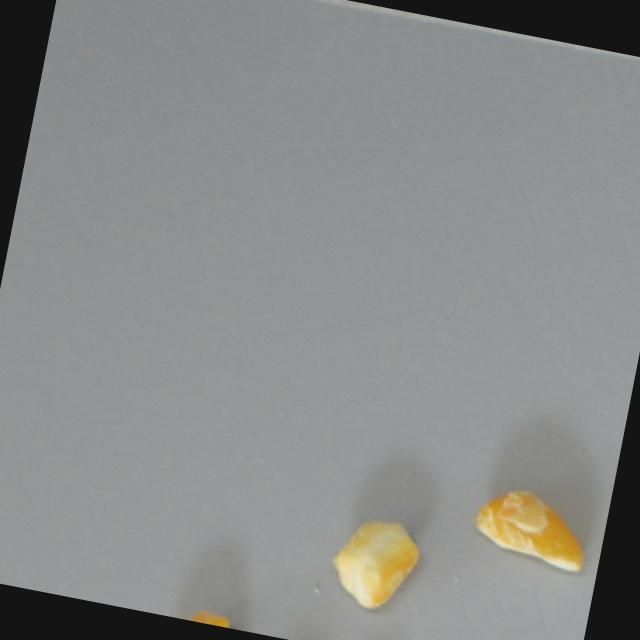dañado: (462, 472, 611, 588), (160, 597, 262, 634)
pelicula: (320, 503, 430, 618)
